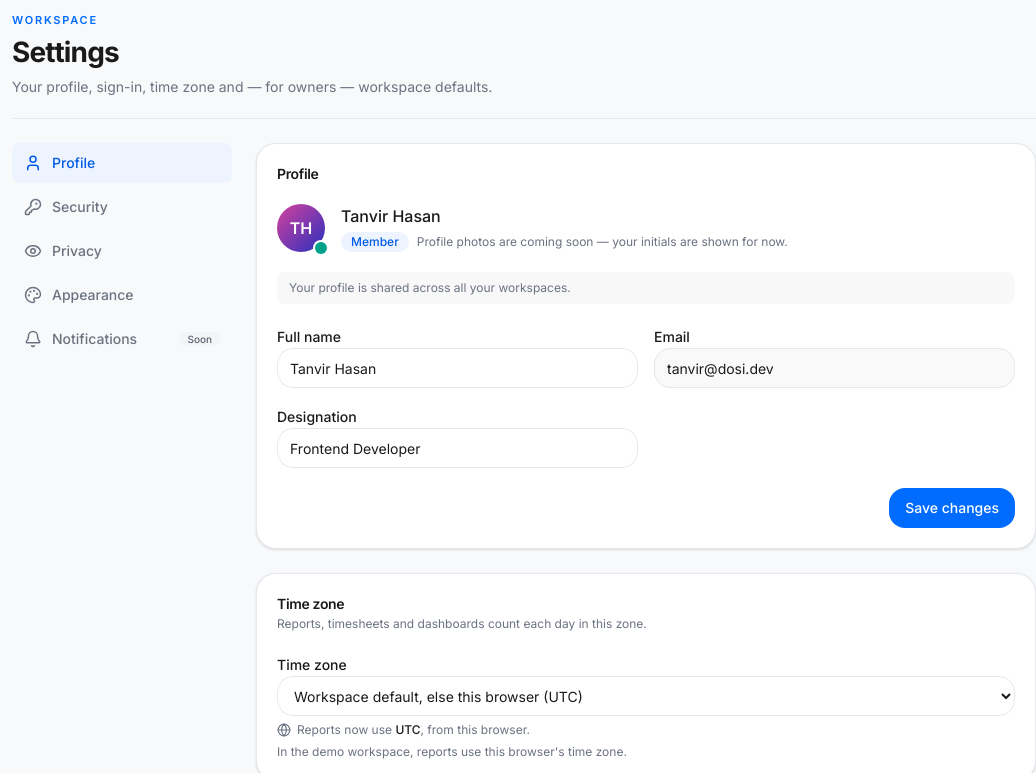
Scenario: settings page — demo mode (no backend session) › describes what the agent really collects, including idle time and blurred screenshots
Click the tab "Privacy". click: x=122, y=251
box: [12,231,232,271]
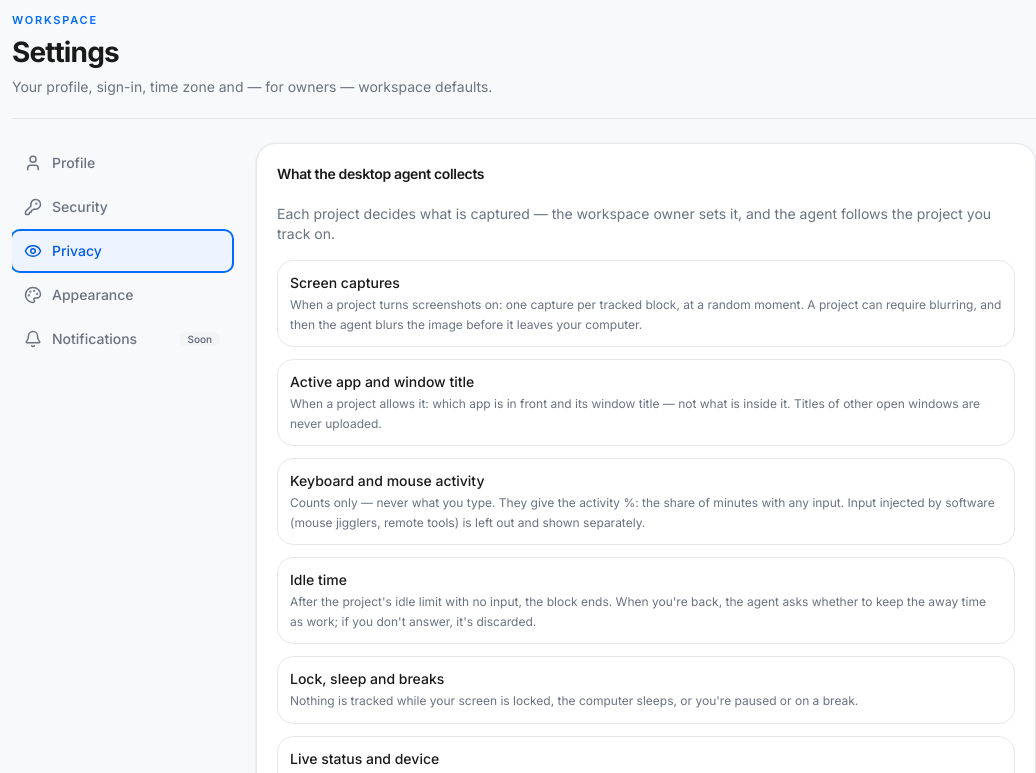
Result: the text "Idle time" is shown at [290,571,347,588]
Result: the text "keep the away time as work" is shown at [290,594,986,629]
Result: the text "blurs the image before it leaves your computer" is shown at [290,297,1001,332]
